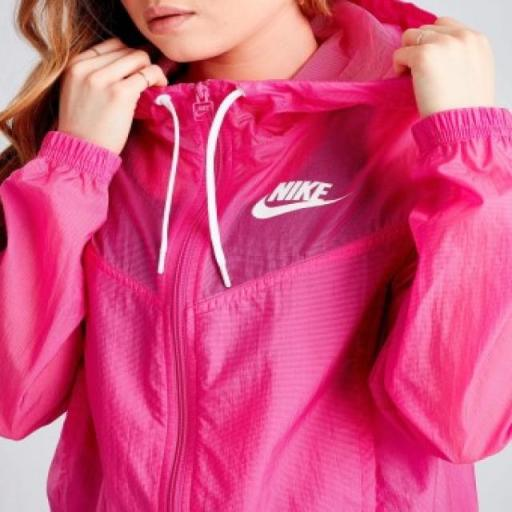Nike: (248, 198, 324, 220), (268, 179, 330, 204)
